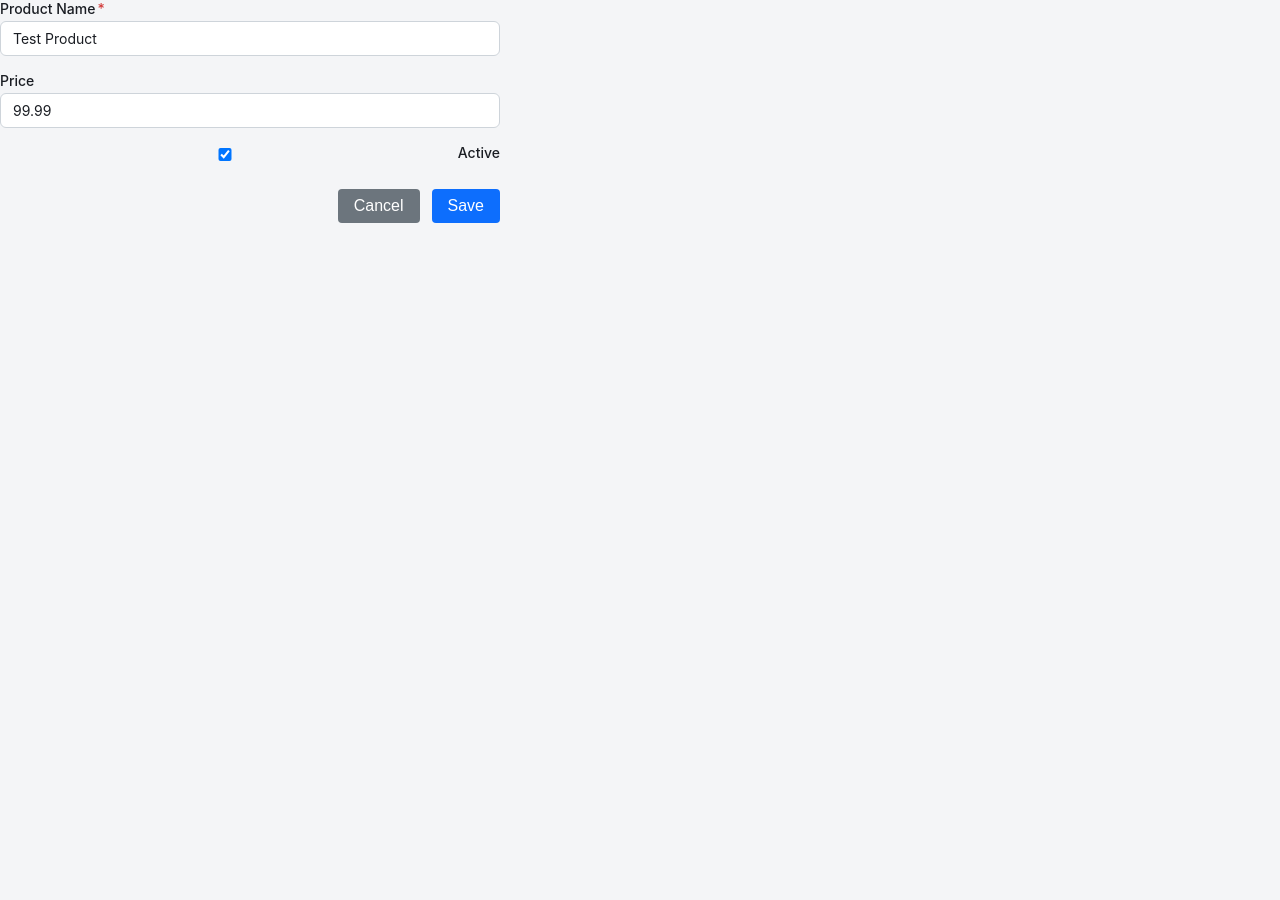
Scenario: FormBlock › Version Conflict › shows conflict dialog on VERSION_CONFLICT error
This screenshot has width=1280, height=900.
Click the button with test id "form-submit": (466, 206) 432,189 -> 500,223
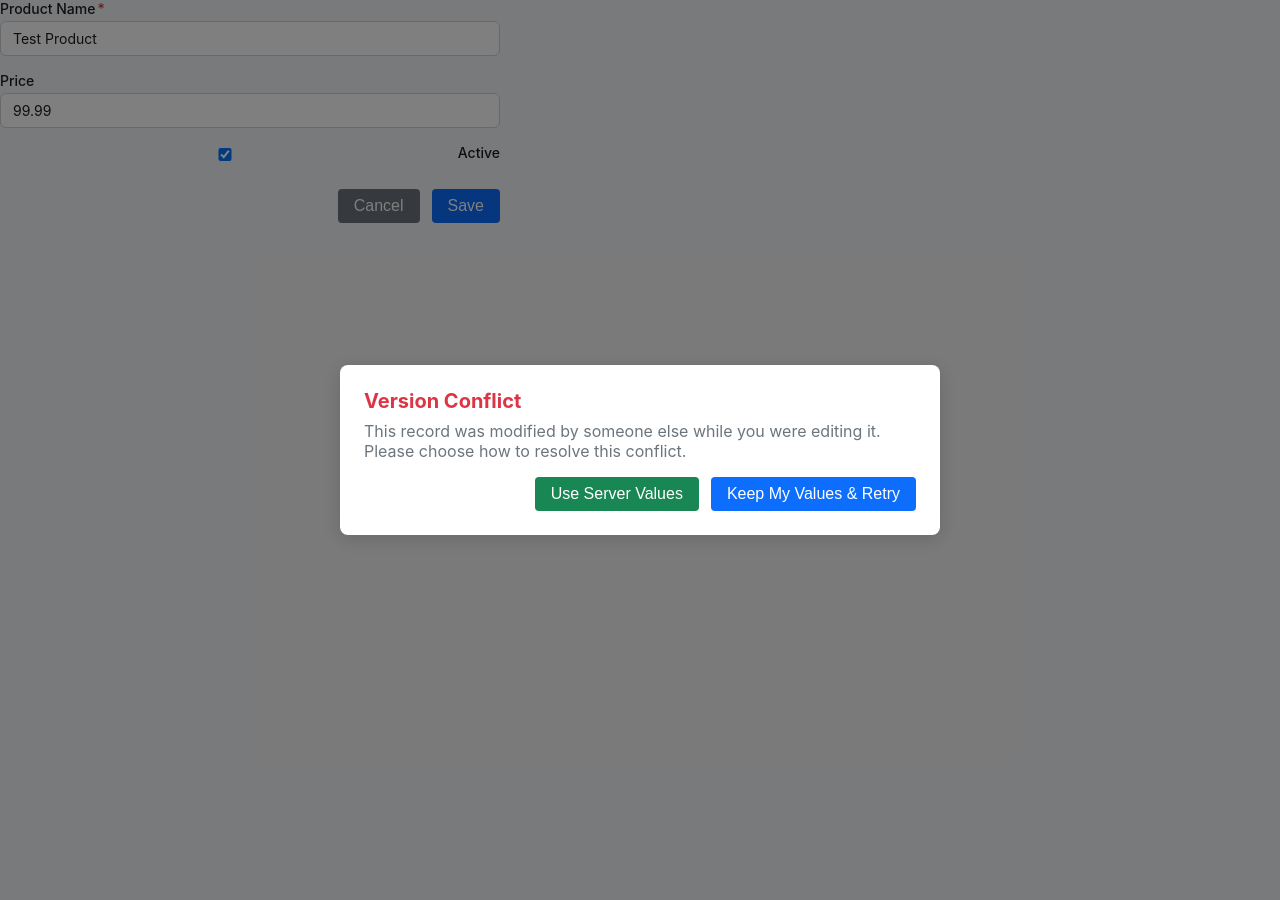
Check: the dialog with test id "conflict-dialog" is shown
